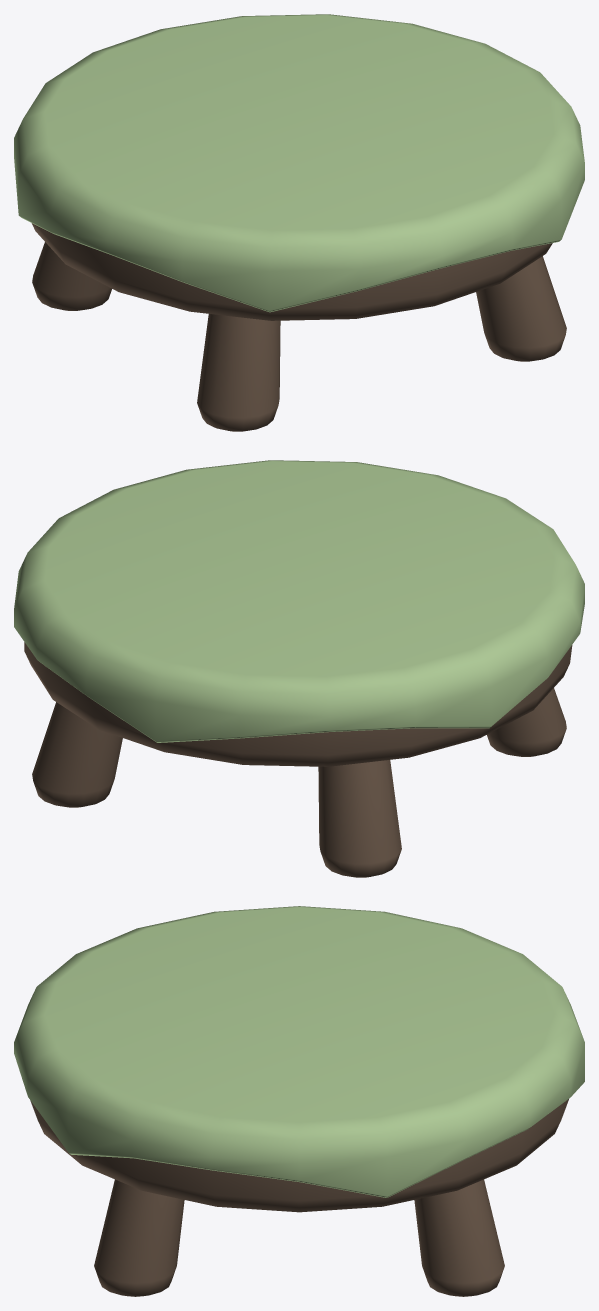
File: Table_14.glb
The picture shows the model from 3 angles, top to bottom: view 1: azimuth 30°, elevation 25°; view 2: azimuth 150°, elevation 25°; view 3: azimuth 270°, elevation 25°; orthographic projection.
Parts seen in each view (by area): view 1: Table_14; view 2: Table_14; view 3: Table_14.
Part boxes in pixels (x1,y1,x2,y2): Table_14: (14, 14, 584, 431); Table_14: (14, 460, 584, 877); Table_14: (14, 906, 584, 1296).
Bounding box in the file's own units: 1.01 × 0.3974 × 1.01.
1 material, 1 textured.
